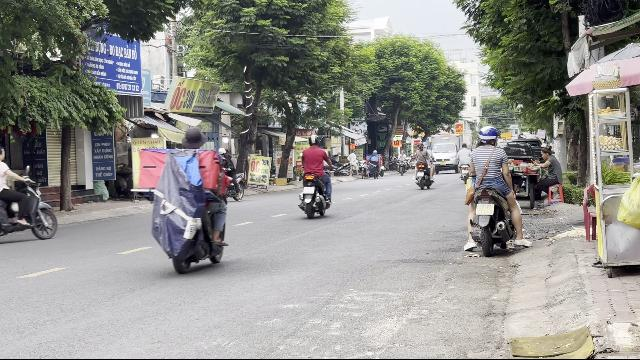helmet: (477, 126, 499, 146)
licenseplate: (476, 204, 494, 214)
motorcyclist: (147, 126, 231, 274), (460, 124, 524, 256), (0, 142, 60, 252)
nohelmet: (182, 128, 204, 148)
